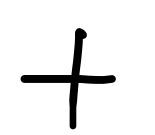plus: (20, 27, 116, 128)
